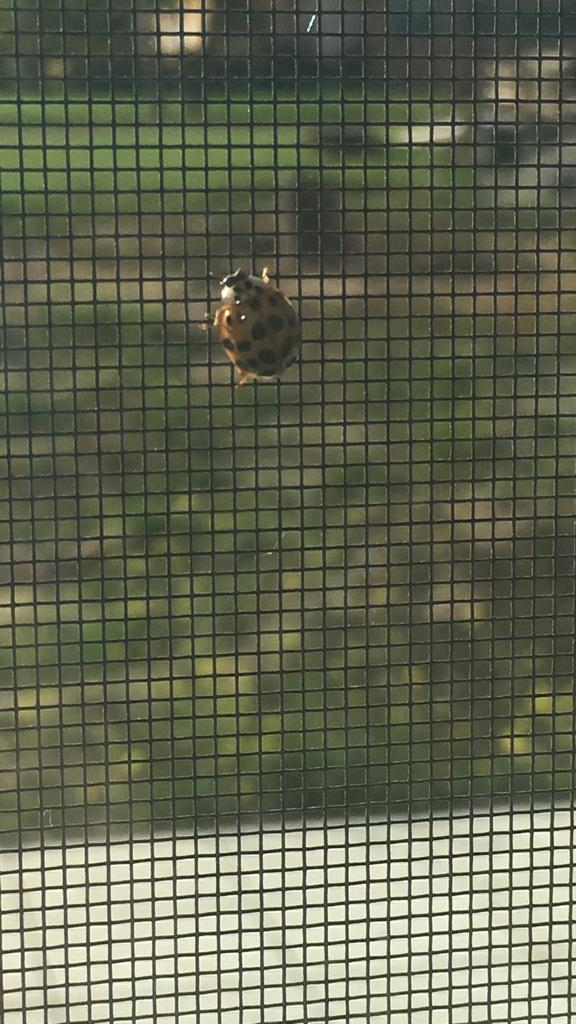ladybug: (204, 269, 309, 391)
